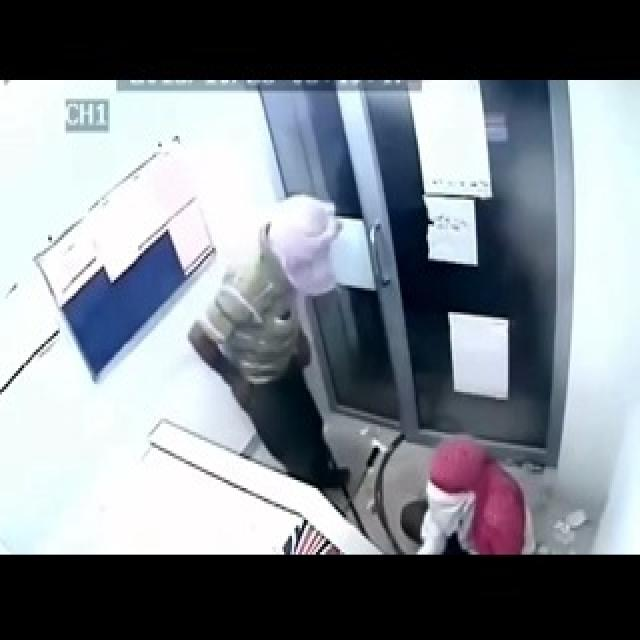thief: (203, 206, 335, 480), (423, 420, 530, 558)
